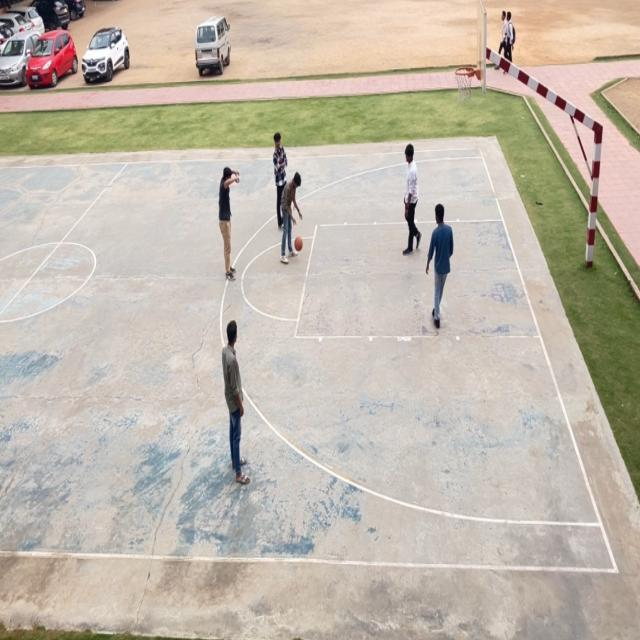basketball: (295, 236, 303, 250)
hoop: (453, 65, 477, 105)
